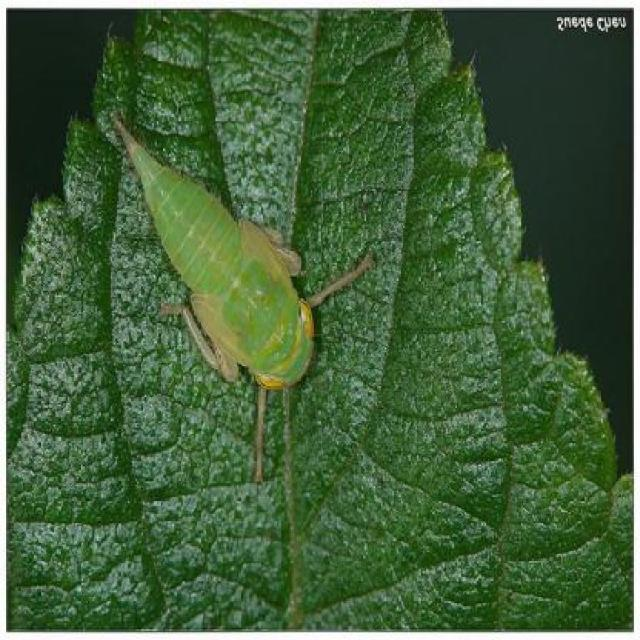green-leafhopper: (113, 121, 347, 410)
